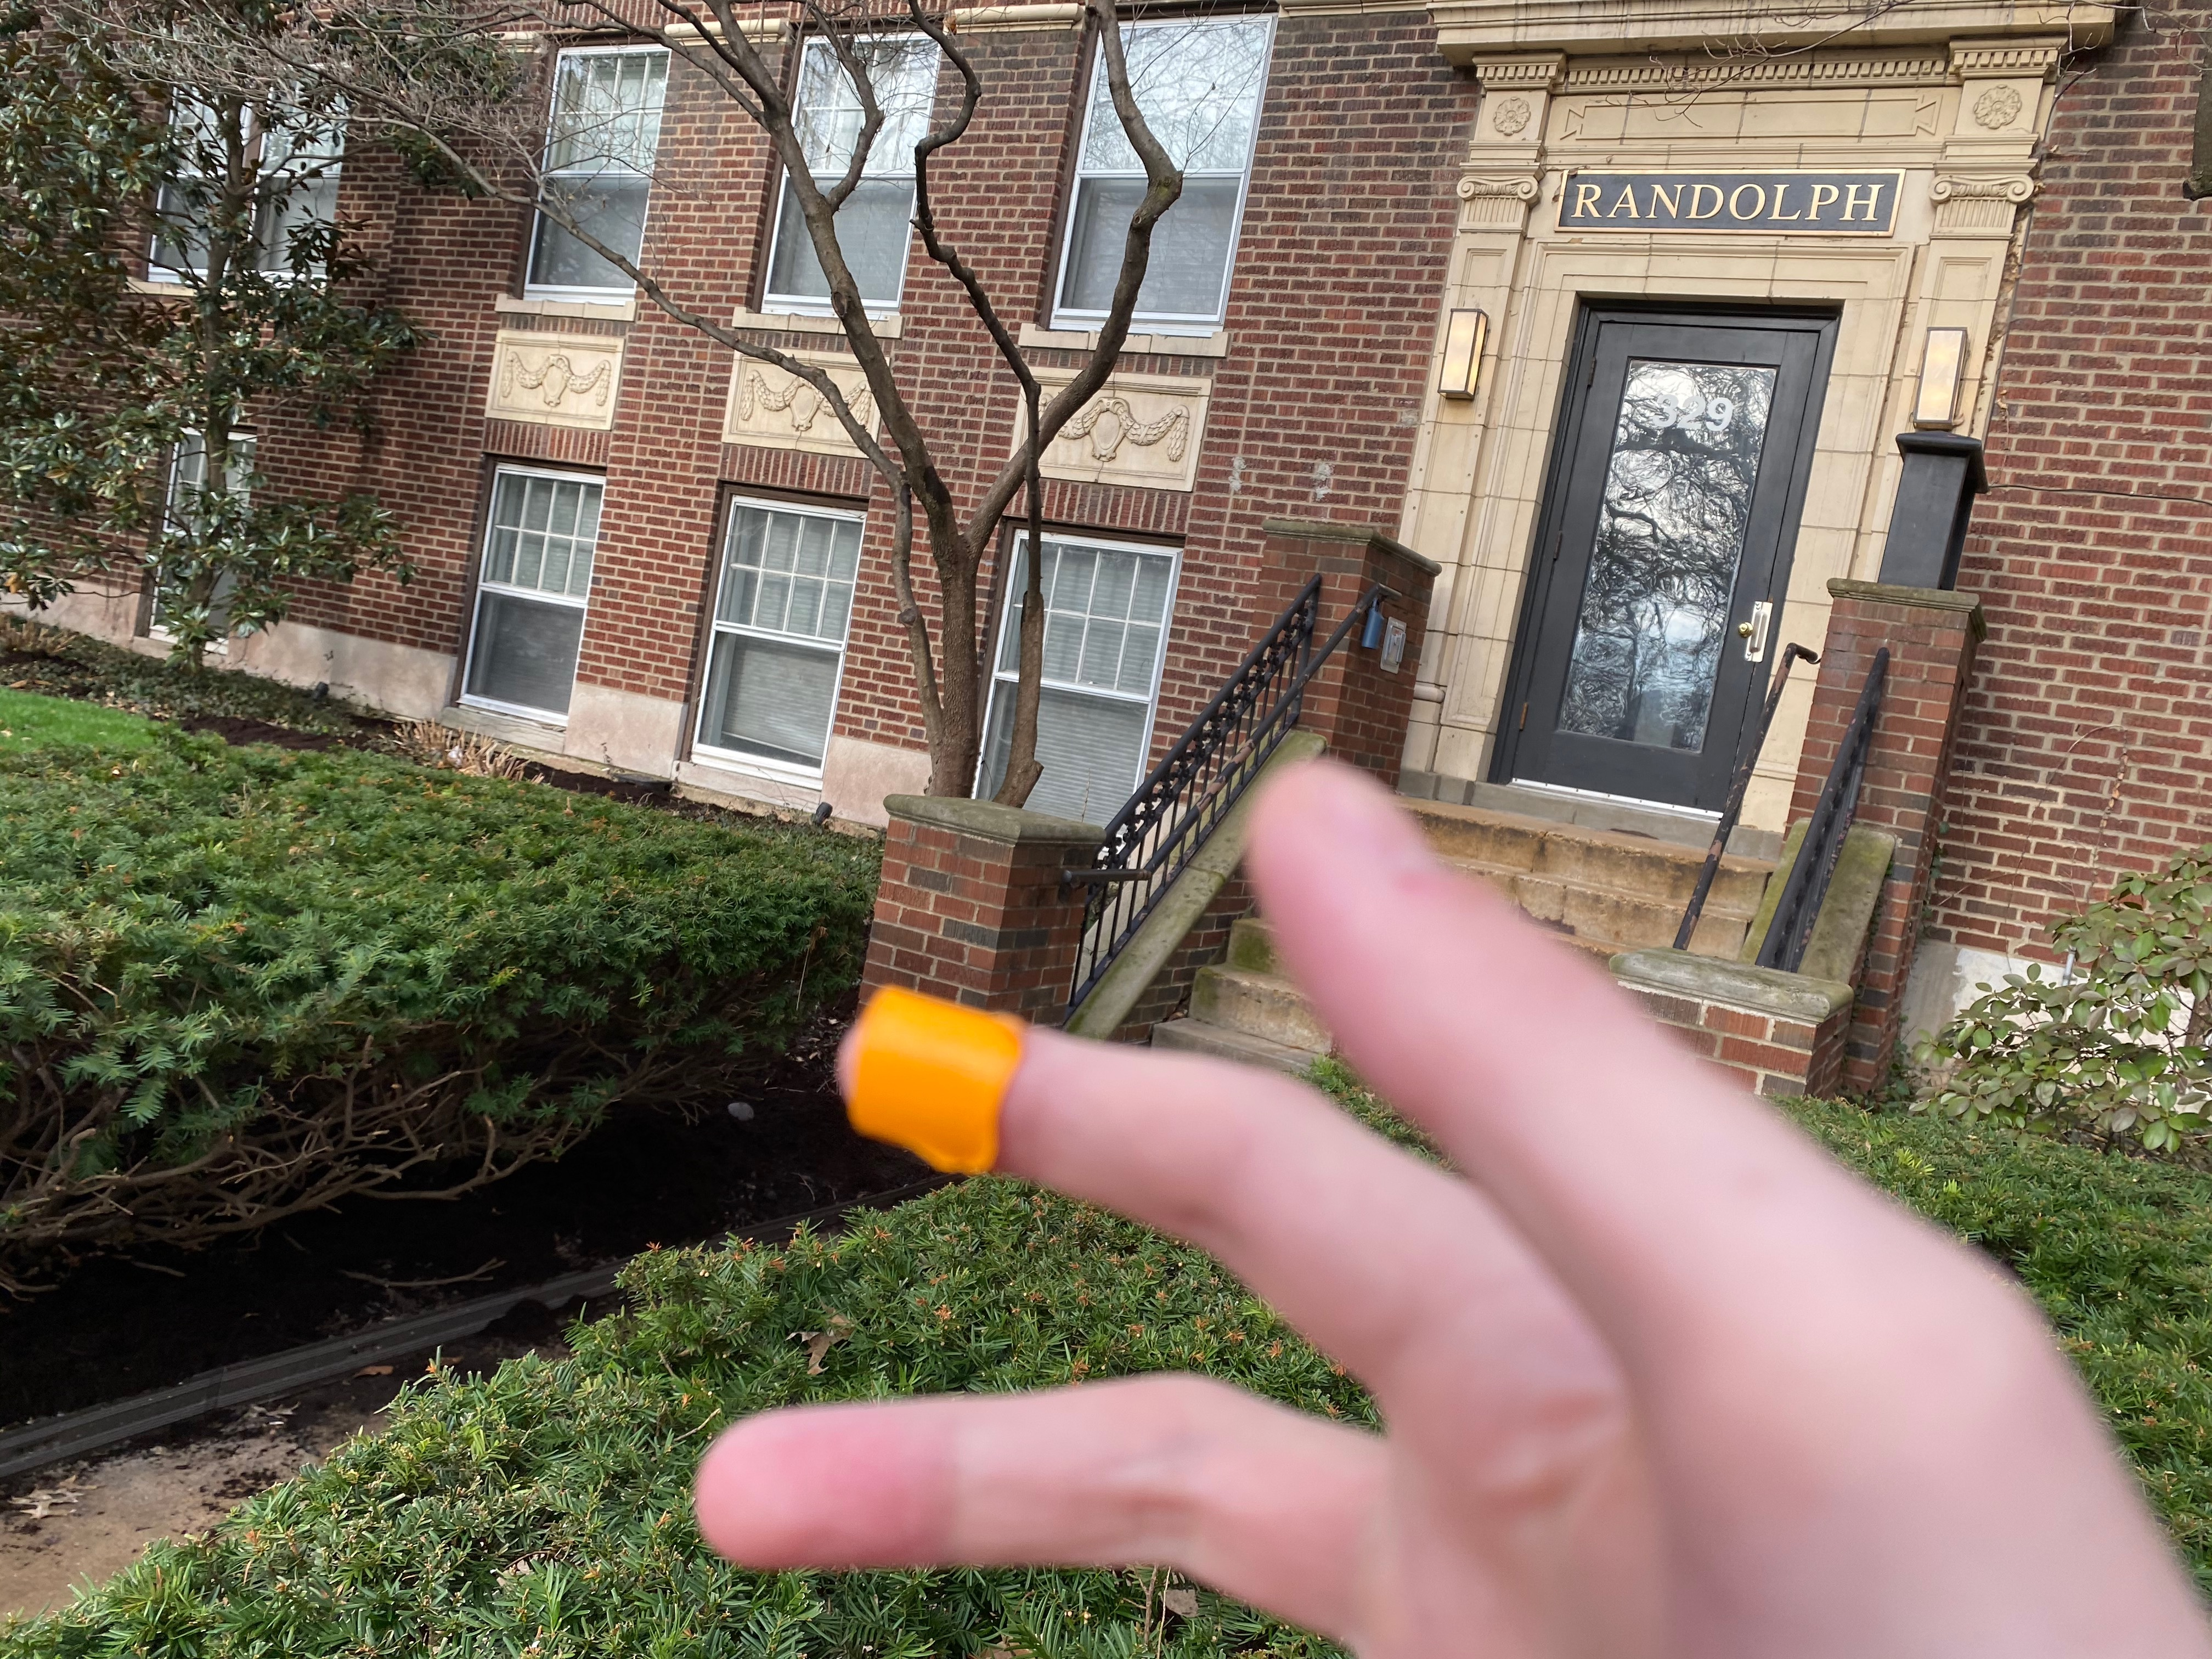fingertip: (803, 972, 1097, 1229)
